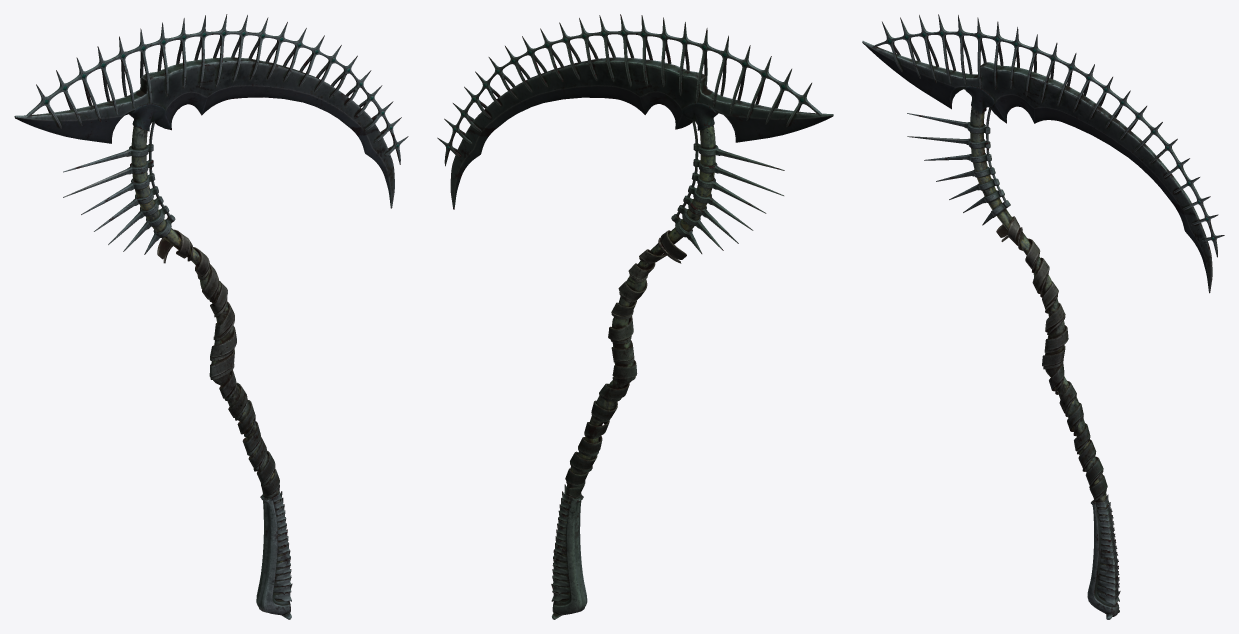
File: RavenScythe.FBX
3 renders of one model, left to right at view 1: azimuth 30°, elevation 25°; view 2: azimuth 150°, elevation 25°; view 3: azimuth 330°, elevation 25°, orthographic. The views are drawn at different scales.
Visible parts, largest first — view 1: RavenScythe; view 2: RavenScythe; view 3: RavenScythe.
Part boxes in pixels (x1,y1,x2,y2): RavenScythe: (14, 14, 408, 619); RavenScythe: (437, 14, 833, 619); RavenScythe: (862, 14, 1224, 619).
Bounding box in the file's own units: 131 × 198 × 7.4.
Materials: 1 (1 with a texture image).
